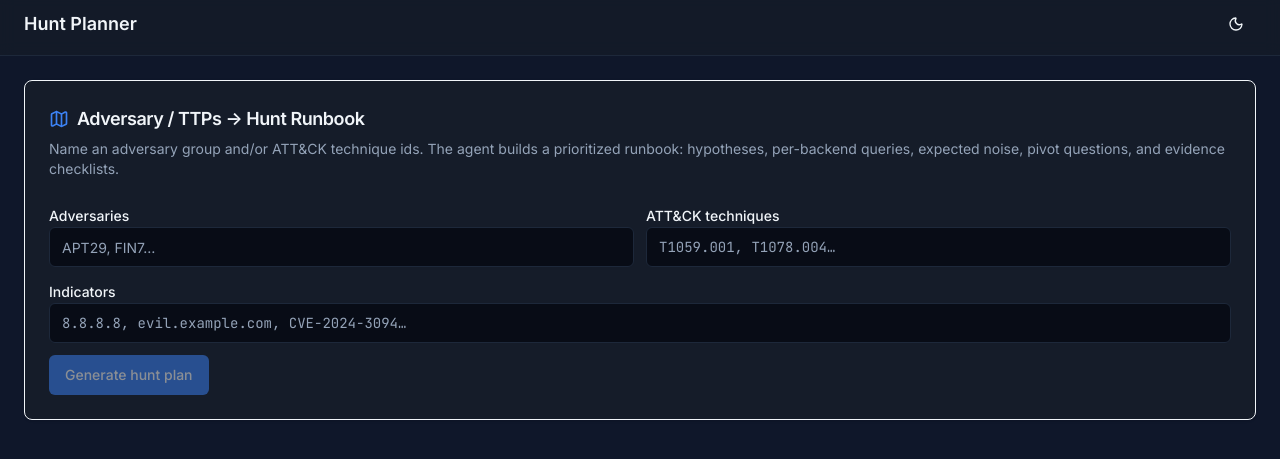
Test: HuntPlanPage IOC input (#99) › enables generation on IOCs alone — no adversary or TTP needed
Expected: the button with test id "generate-plan" is disabled, [49,355,208,395]
Step 1. Type "8.8.8.8" into the field with test id "plan-iocs-input" → (640,323), box [49,303,1231,343]
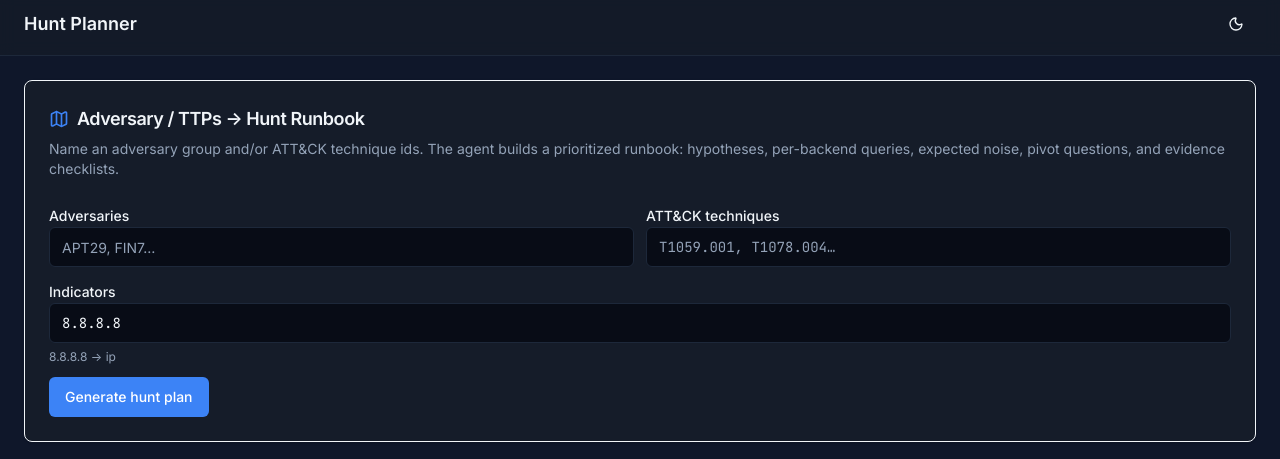
Result: the button with test id "generate-plan" is enabled at [49,377,208,417]
